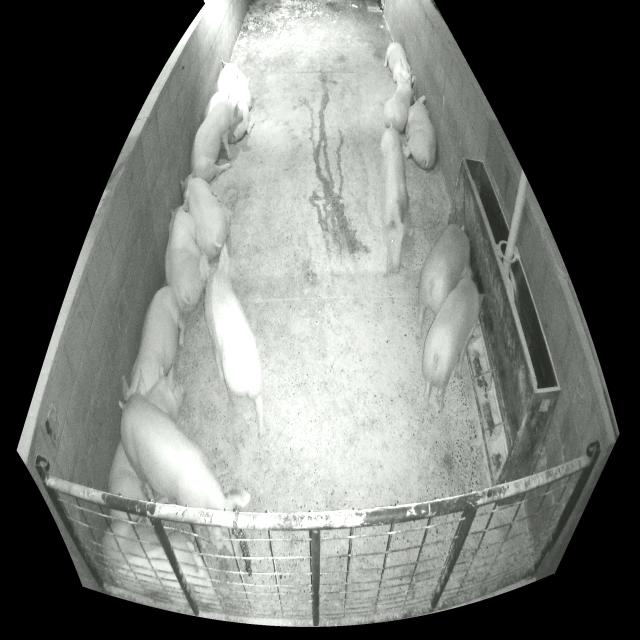pig: (119, 395, 251, 511), (201, 245, 266, 438), (109, 359, 184, 523), (103, 519, 215, 609), (422, 266, 484, 410), (122, 287, 186, 400), (417, 224, 470, 338), (190, 87, 243, 182), (381, 124, 414, 273), (165, 199, 204, 313), (180, 170, 228, 259), (216, 60, 254, 143), (403, 95, 436, 169), (384, 72, 414, 132), (384, 42, 411, 86), (202, 92, 228, 122)
